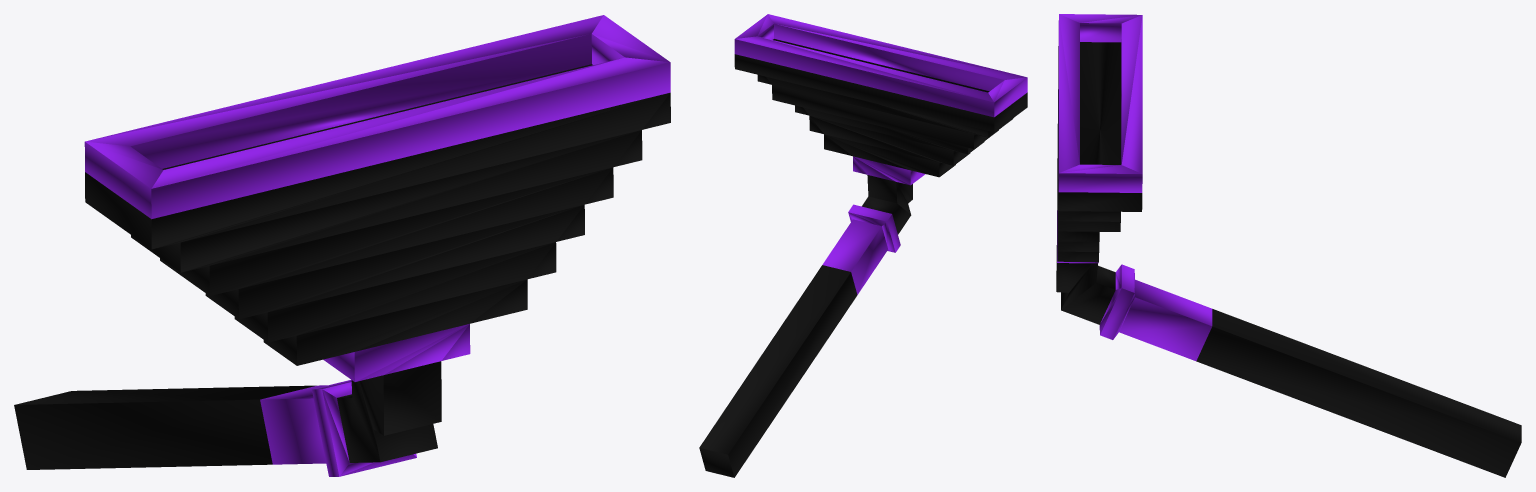
Rendered from Vacuum.fbx.
The picture shows the model from 3 angles, left to right: view 1: azimuth 30°, elevation 25°; view 2: azimuth 150°, elevation 25°; view 3: azimuth 270°, elevation 25°; orthographic projection. The views are drawn at different scales.
Parts seen in each view (by area): view 1: CleanerVacuum-0; view 2: CleanerVacuum-0; view 3: CleanerVacuum-0.
Part boxes in pixels (<box>): CleanerVacuum-0: <box>14,15,670,476</box>; CleanerVacuum-0: <box>699,14,1027,477</box>; CleanerVacuum-0: <box>1056,14,1521,477</box>.
Size of the model in its own units: 180 by 198 by 222.
